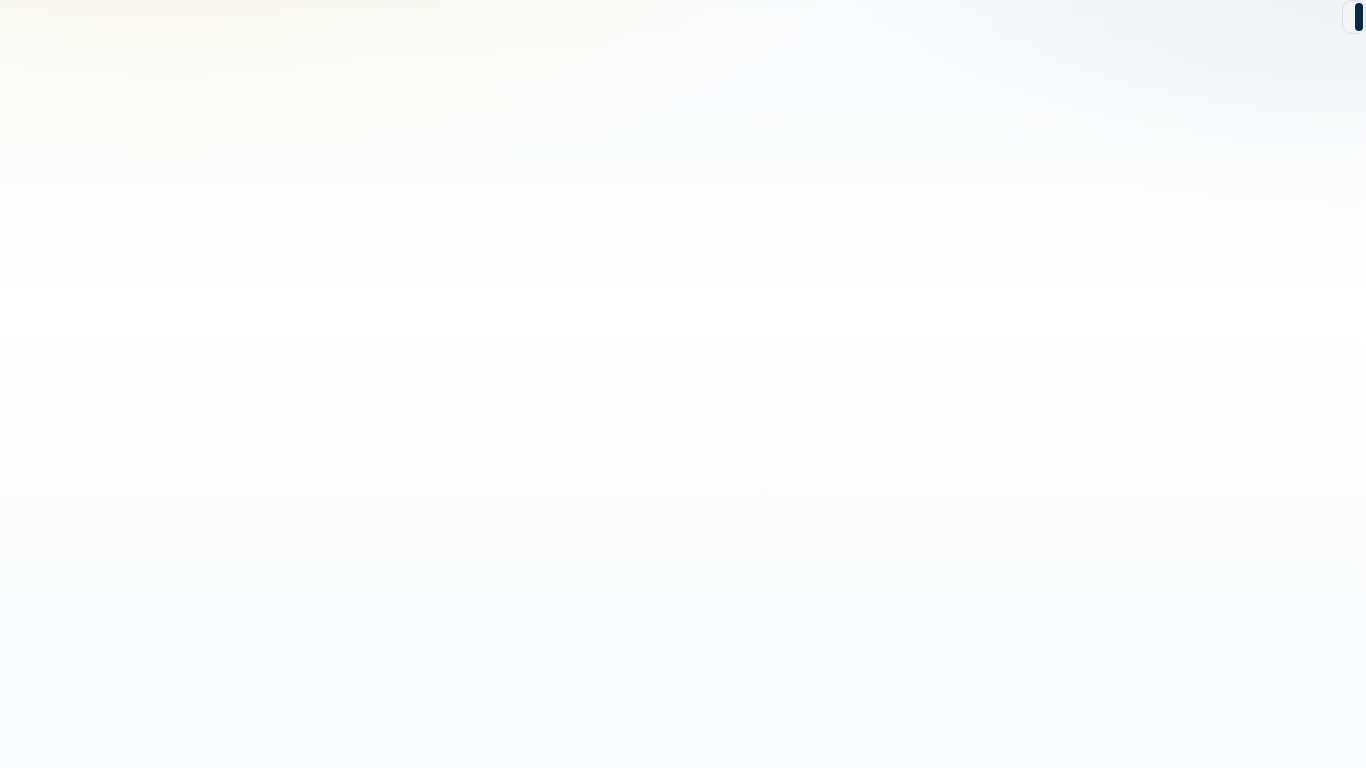
it: does not activate a broker before explicit terms acceptance
Click the button named "שותף": (1349, 17) [1345,3,1353,31]
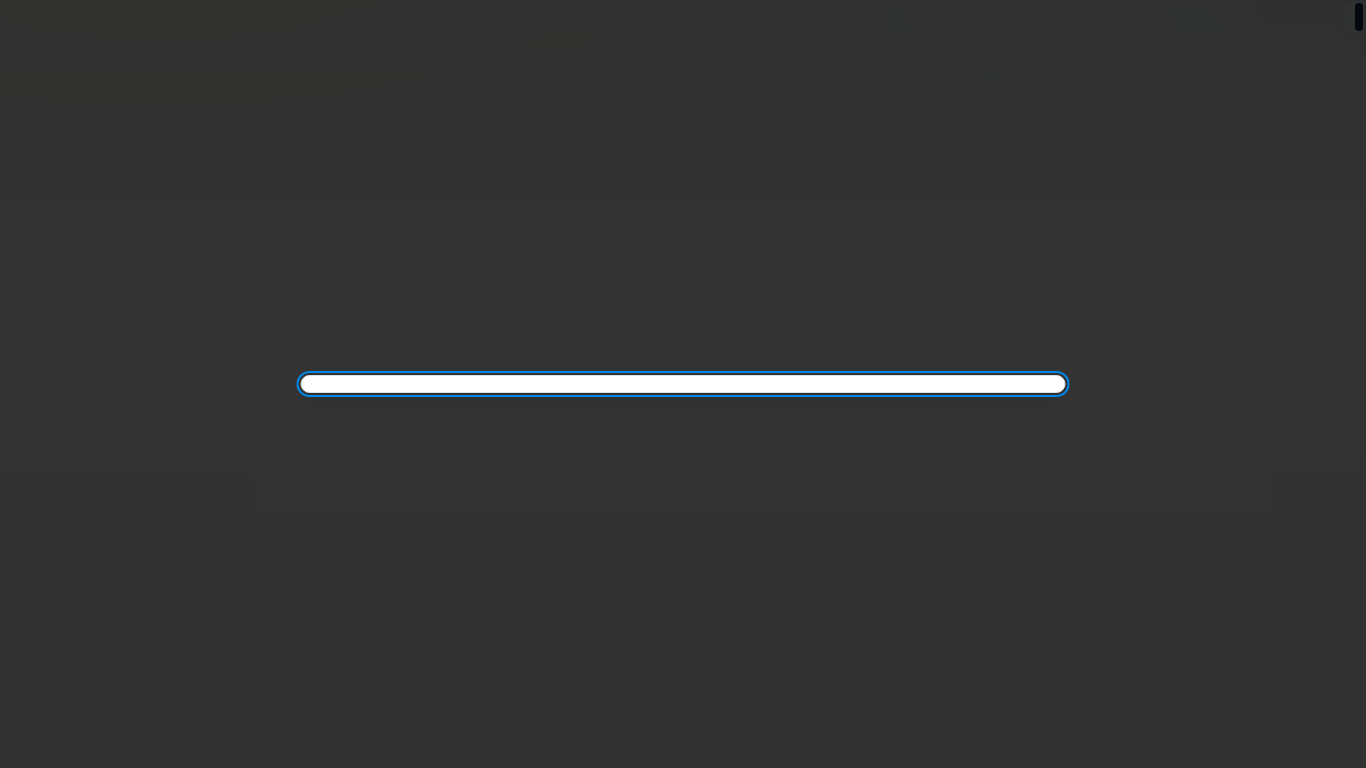
Expected: the dialog is shown, [300,375,1066,393]
